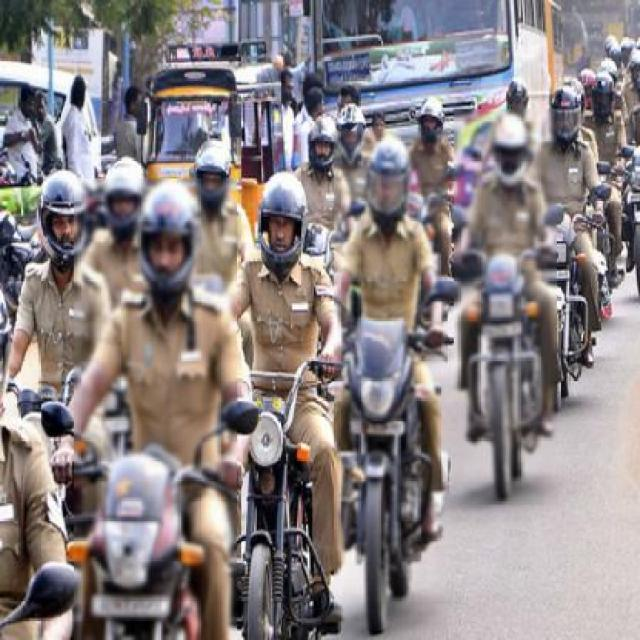helmet: (133, 184, 214, 317), (26, 168, 90, 272), (245, 176, 309, 274), (366, 143, 428, 238), (474, 110, 534, 192), (108, 150, 150, 242), (189, 137, 235, 215), (396, 86, 451, 150), (491, 69, 539, 119), (552, 83, 582, 159), (328, 109, 372, 157), (292, 129, 338, 169), (588, 73, 616, 129)
motorcycle: (333, 305, 452, 640), (216, 372, 356, 640), (70, 429, 242, 640), (463, 252, 553, 507), (536, 210, 608, 401)
